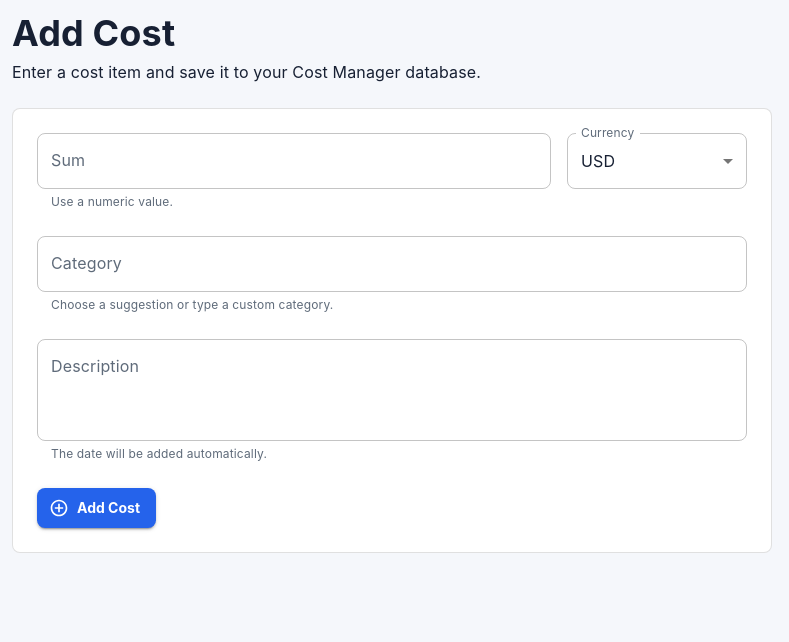
Test: AddCostPage › shows required-field validation and does not persist an empty submission
The width and height of the screenshot is (789, 642).
Click the button "Add Cost" at x=96, y=508, box [37,488,156,528]
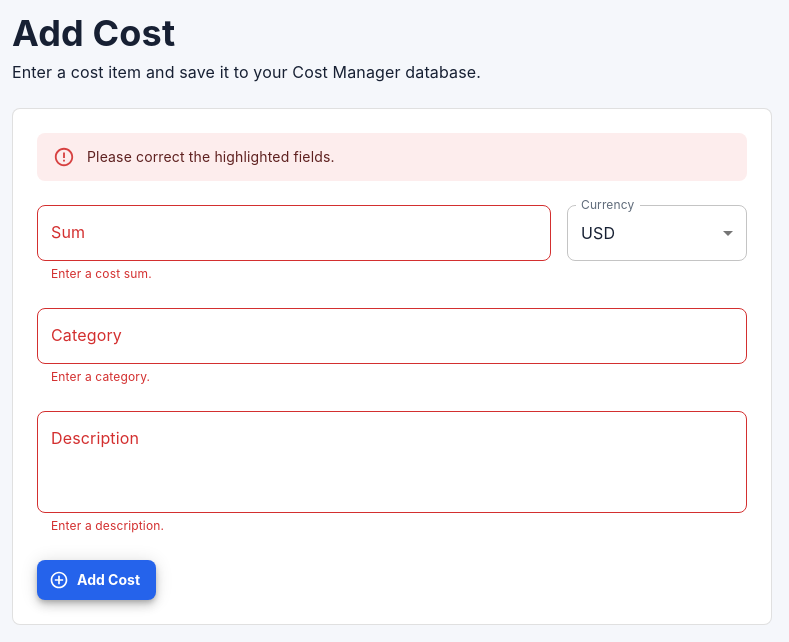
expect the text "Please correct the highlighted fields." is shown: met, box [87,148,335,166]
expect the text "Enter a cost sum." is shown: met, box [51,266,152,282]
expect the text "Enter a category." is shown: met, box [51,369,150,384]
